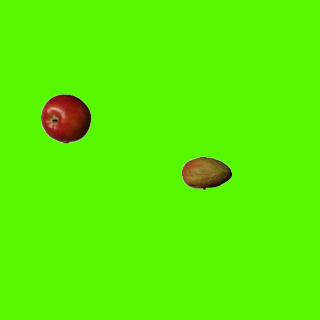Apple Braeburn: (40, 93, 90, 143)
Papaya: (181, 148, 231, 198)
